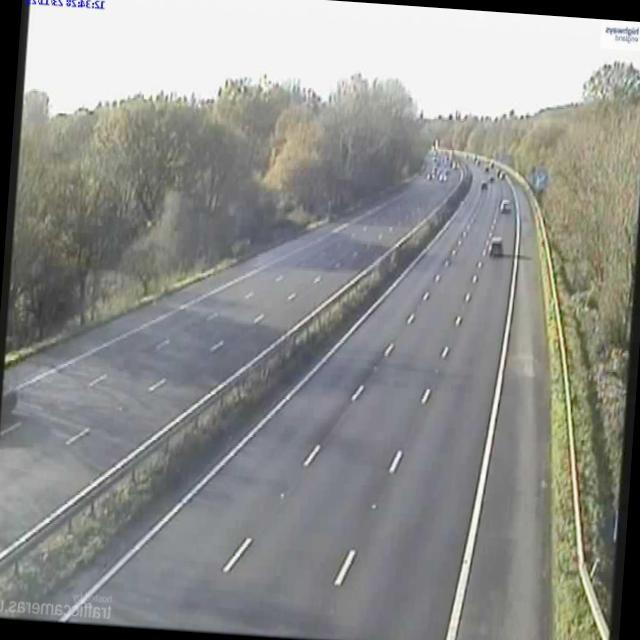foliage: (5, 74, 424, 361), (427, 60, 640, 601)
